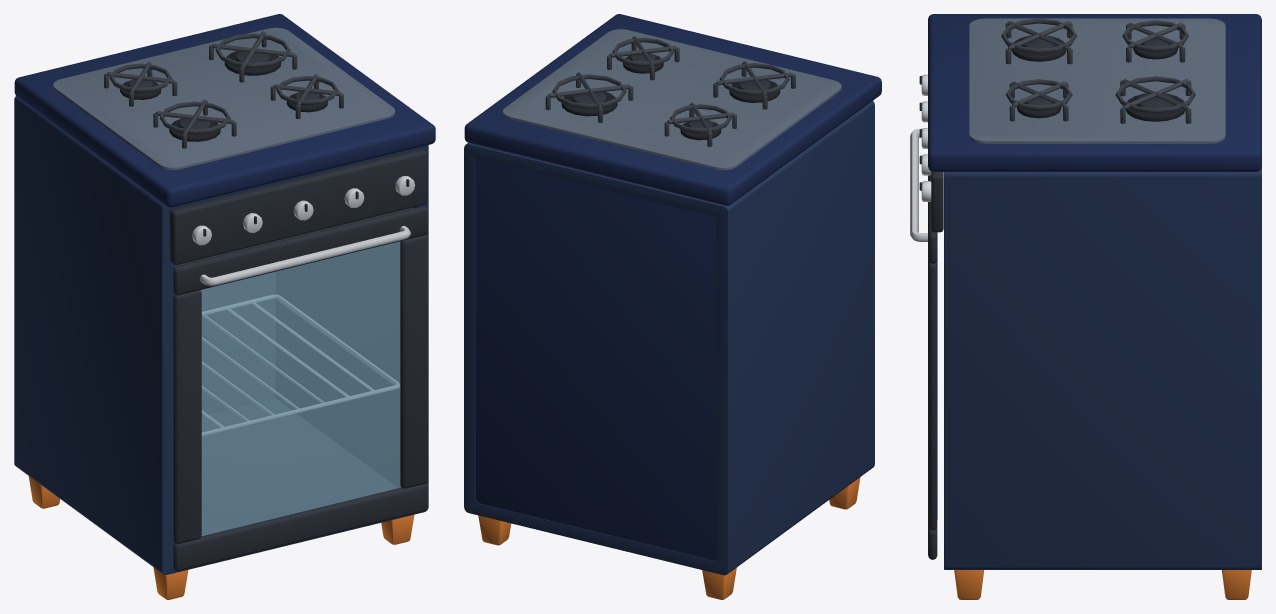
Rendered from fogao_modulo_grafite_noite.glb.
The picture shows the model from 3 angles, left to right: view 1: azimuth 30°, elevation 25°; view 2: azimuth 150°, elevation 25°; view 3: azimuth 270°, elevation 25°; orthographic projection. The views are drawn at different scales.
Visible parts, largest first — view 1: fogao_modulo_grafite_noite, porta_forno; view 2: fogao_modulo_grafite_noite; view 3: fogao_modulo_grafite_noite, porta_forno.
Boxes of the visible parts, bbox=[...] form: fogao_modulo_grafite_noite: bbox=[14, 14, 435, 599]; porta_forno: bbox=[173, 206, 428, 571]; fogao_modulo_grafite_noite: bbox=[464, 14, 881, 599]; fogao_modulo_grafite_noite: bbox=[919, 14, 1261, 599]; porta_forno: bbox=[910, 128, 937, 559].
Bounding box in the file's own units: 0.598 × 0.939 × 0.631.
Materials: 2 (1 with a texture image).
